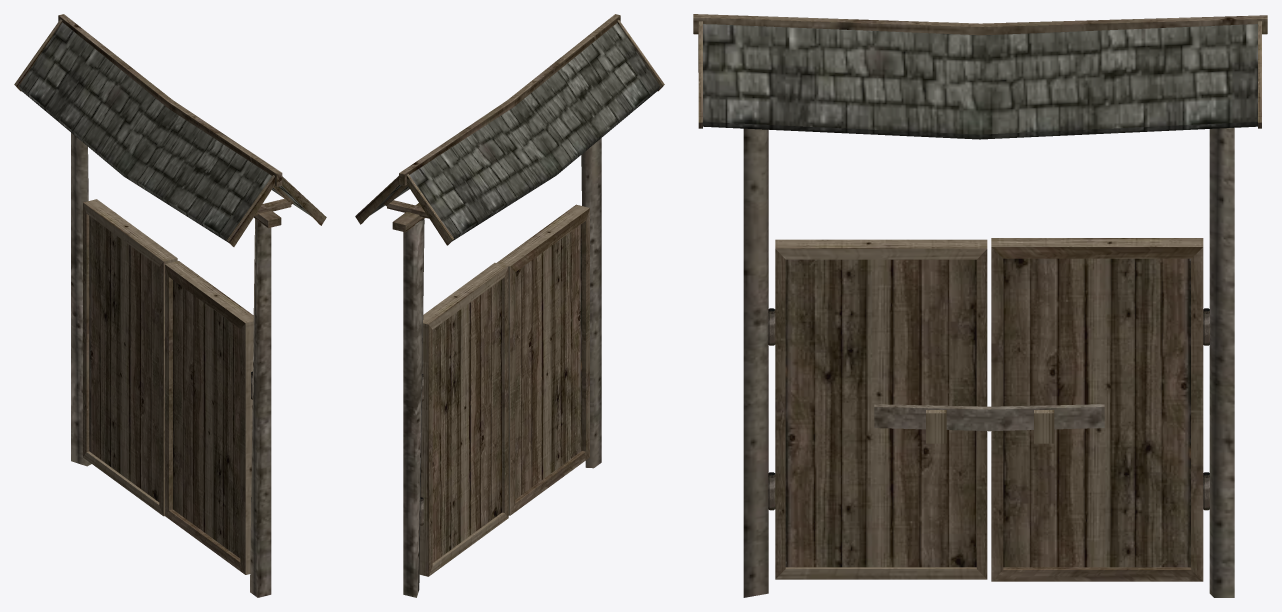
File: gate.glb
3 renders of one model, left to right at view 1: azimuth 30°, elevation 25°; view 2: azimuth 150°, elevation 25°; view 3: azimuth 270°, elevation 25°, orthographic. The views are drawn at different scales.
Parts seen in each view (by area): view 1: Object_4; view 2: Object_4; view 3: Object_4.
Part boxes in pixels (box(x1,y1,x2,y2)): Object_4: box(14, 14, 326, 597); Object_4: box(355, 14, 664, 597); Object_4: box(693, 14, 1267, 597).
Size of the model in its own units: 0.2154 by 0.9151 by 0.8278.
1 material, 1 textured.
